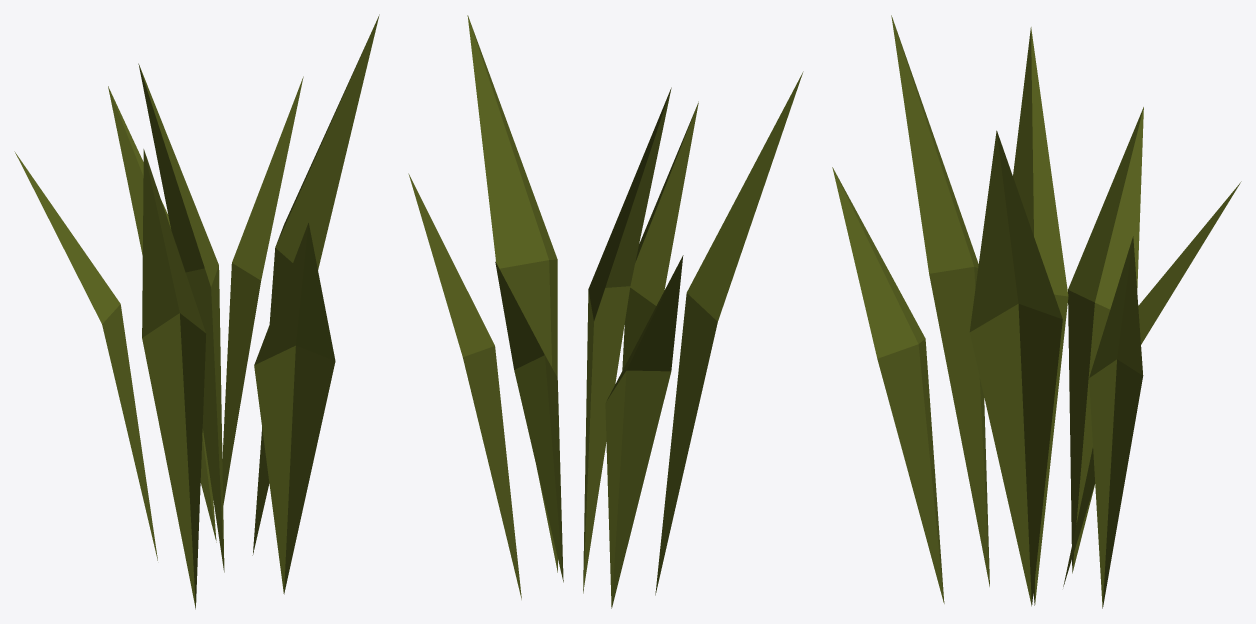
Rendered from Plant_Grass.fbx.
3 views of the same model, side by side, from view 1: azimuth 30°, elevation 25°; view 2: azimuth 150°, elevation 25°; view 3: azimuth 270°, elevation 25° (orthographic).
Parts seen in each view (by area): view 1: polySurface19; view 2: polySurface19; view 3: polySurface19.
Part boxes in pixels (x1,y1,x2,y2): polySurface19: [14, 14, 379, 609]; polySurface19: [408, 15, 803, 608]; polySurface19: [832, 15, 1241, 608].
Size of the model in its own units: 68.6 by 123 by 82.9.
